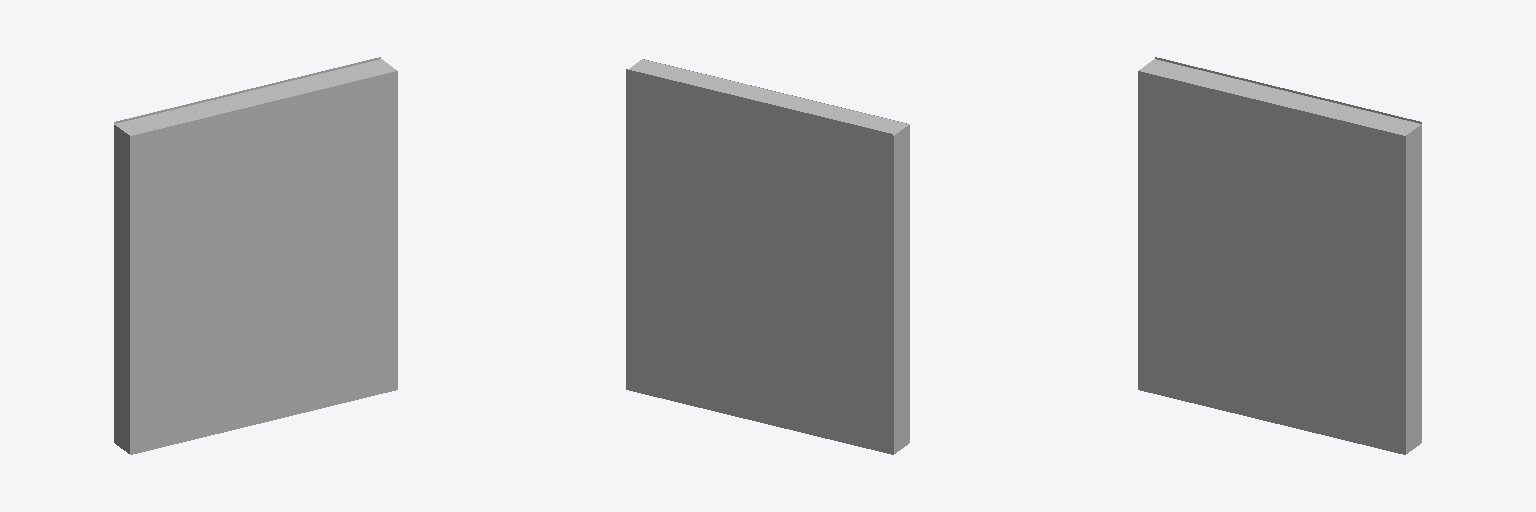
Rendered from bullsai.obj.
The picture shows the model from 3 angles: view 1: azimuth 30°, elevation 25°; view 2: azimuth 150°, elevation 25°; view 3: azimuth 330°, elevation 25°; orthographic projection.
Visible parts, largest first — view 1: BullsAI.1; view 2: BullsAI.1; view 3: BullsAI.1.
Boxes of the visible parts, x1=… form: BullsAI.1: x1=114, y1=57, x2=397, y2=454; BullsAI.1: x1=626, y1=59, x2=909, y2=454; BullsAI.1: x1=1138, y1=57, x2=1421, y2=454.
Size of the model in its own units: 83.43 by 95.7 by 8.97.